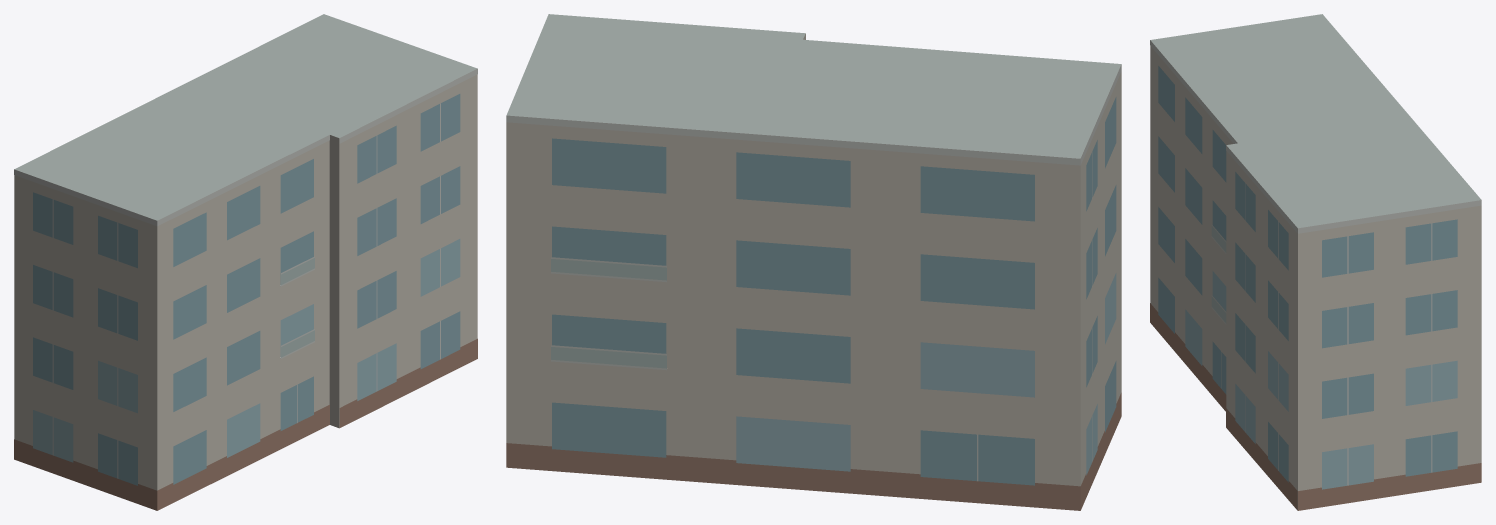
The model's file is survey-upis-32648773.glb.
The picture shows the model from 3 angles, left to right: view 1: azimuth 30°, elevation 25°; view 2: azimuth 150°, elevation 25°; view 3: azimuth 270°, elevation 25°; orthographic projection. The views are drawn at different scales.
Visible parts, largest first — view 1: survey-upis-32648773.tmp; view 2: survey-upis-32648773.tmp; view 3: survey-upis-32648773.tmp.
Part boxes in pixels (bbox=[...]): survey-upis-32648773.tmp: bbox=[14, 14, 477, 510]; survey-upis-32648773.tmp: bbox=[506, 14, 1121, 510]; survey-upis-32648773.tmp: bbox=[1150, 14, 1481, 510].
Bounding box in the file's own units: 20.51 × 12.6 × 13.41.
